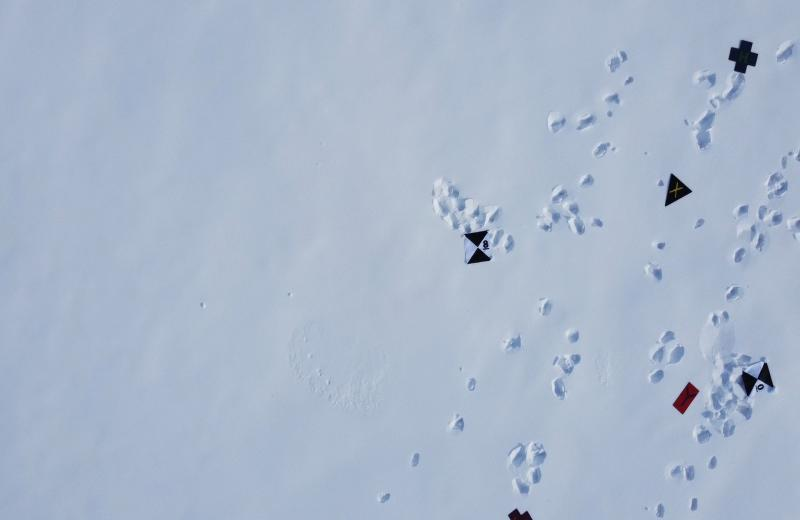Cross: (728, 36, 759, 75), (508, 503, 533, 520)
Rectangle: (672, 381, 702, 416)
Triangle: (665, 172, 694, 209)
